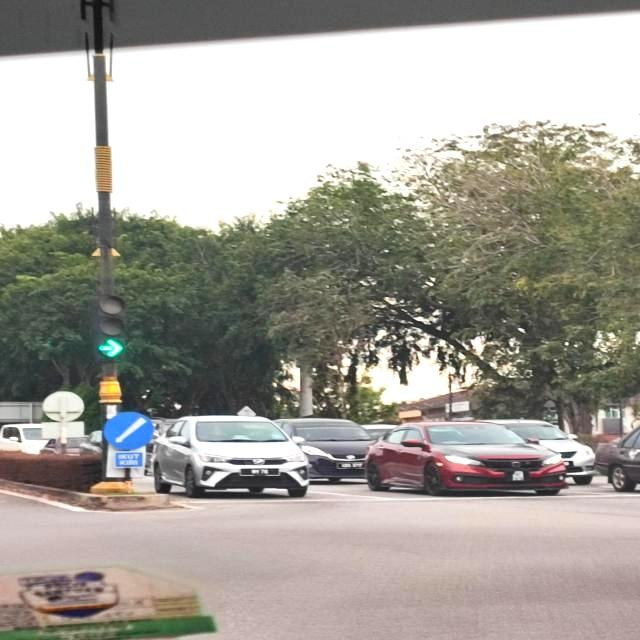Green: (94, 294, 128, 359)
